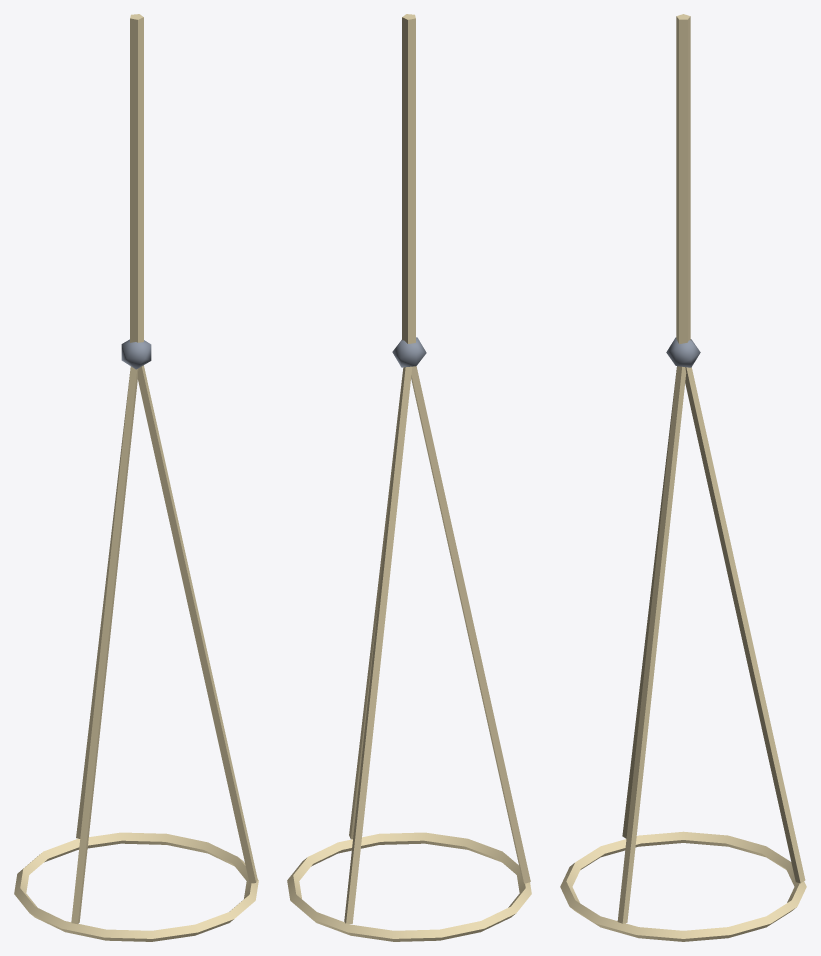
Rendered from PotHanger.fbx.
The picture shows the model from 3 angles, left to right: view 1: azimuth 30°, elevation 25°; view 2: azimuth 150°, elevation 25°; view 3: azimuth 270°, elevation 25°; orthographic projection.
Visible parts, largest first — view 1: PotHanger; view 2: PotHanger; view 3: PotHanger.
Part boxes in pixels (x1,y1,x2,y2): PotHanger: (14,14,258,941); PotHanger: (287,14,531,941); PotHanger: (560,14,806,941).
Bounding box in the file's own units: 1 × 3.92 × 1.
